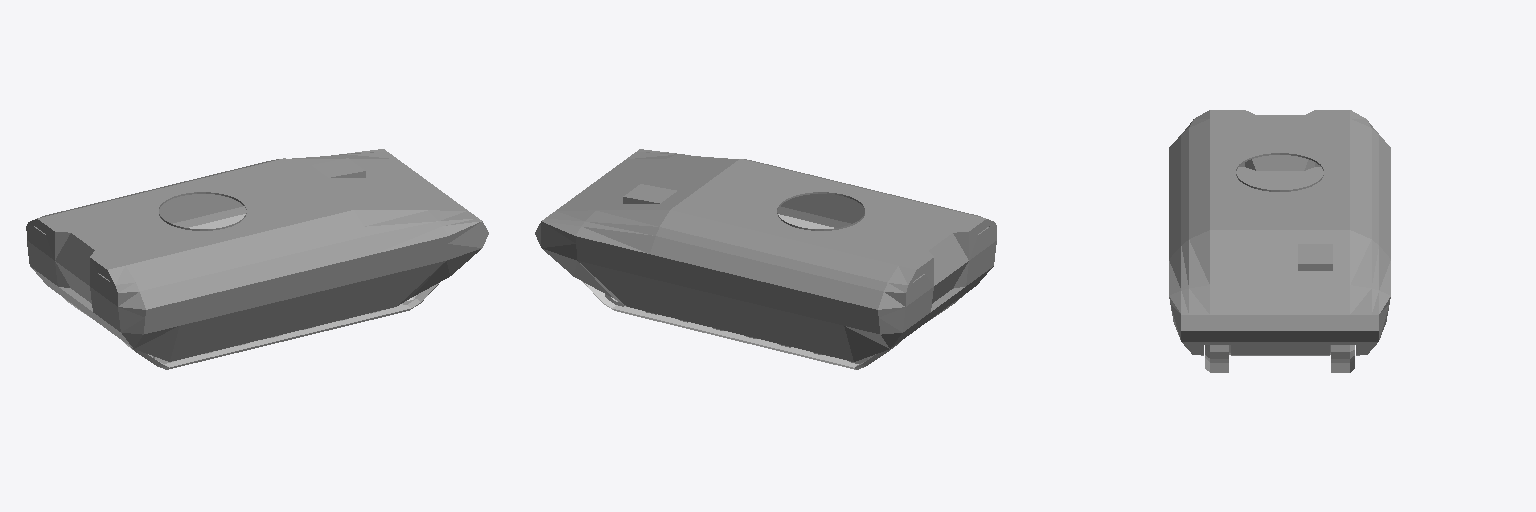
The model's file is kadlub.obj.
3 renders of one model, left to right at view 1: azimuth 30°, elevation 25°; view 2: azimuth 150°, elevation 25°; view 3: azimuth 270°, elevation 25°, orthographic.
Visible parts, largest first — view 1: Cube, Track_Left_Object_1.001; view 2: Cube, Track_Right_Object_2.004; view 3: Cube, Track_Right_Object_2.004, Track_Left_Object_1.001.
Boxes of the visible parts, box(x1,y1,x2,y2) form: Cube: box(26, 149, 488, 361); Track_Left_Object_1.001: box(124, 283, 438, 369); Cube: box(535, 149, 996, 361); Track_Right_Object_2.004: box(582, 281, 899, 369); Cube: box(1169, 110, 1390, 355); Track_Right_Object_2.004: box(1331, 345, 1354, 372); Track_Left_Object_1.001: box(1205, 345, 1228, 372).
Bounding box in the file's own units: 7.25 × 2.2 × 3.8.